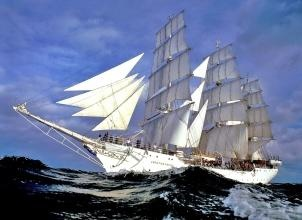fanchuan: (20, 10, 276, 174)
